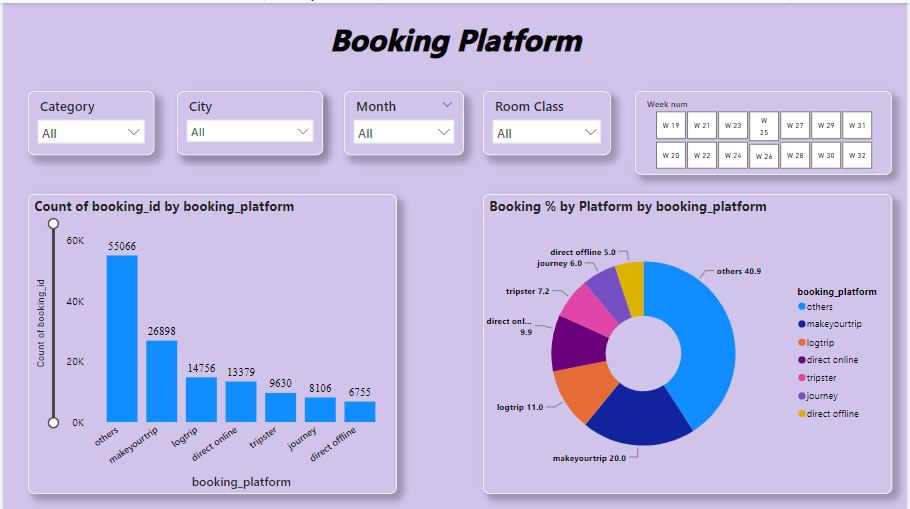

This screenshot's page, from the dashboard's own definition file:
{"tool":"powerbi","page":{"name":"Platform","canvas":[1280,720],"ordinal":3},"visuals":[{"type":"slicer","fields":{"Values":["dim_date.Week num"]},"box":[895.7,124.7,364.3,119.1],"z":4000},{"type":"clusteredColumnChart","fields":{"Category":["fact_bookings.booking_platform"],"Y":["CountNonNull(fact_bookings.booking_id)"]},"box":[35.4,270.7,523,425.2],"z":5000},{"type":"slicer","fields":{"Values":["dim_hotels.category"]},"box":[35.4,124.7,178.6,90.7],"z":6000},{"type":"donutChart","fields":{"Y":["fact_bookings.Booking % by Platform"],"Category":["fact_bookings.booking_platform"]},"box":[680.3,270.7,579.7,425.2],"z":7000},{"type":"textbox","box":[432.3,17,418.1,73.7],"z":8000},{"type":"slicer","fields":{"Values":["dim_rooms.room_class"]},"box":[680.3,124.7,181.4,90.7],"z":9000},{"type":"slicer","fields":{"Values":["dim_hotels.city"]},"box":[246.6,124.7,206.9,90.7],"z":10000},{"type":"slicer","fields":{"Values":["dim_date.mmm yy"]},"box":[483.3,124.7,170.1,90.7],"z":11000}]}

Visuals, with their boxes in screenshot pixels (x1, y1, x2, y2), scaled from the page's 1280x720 canvas onto the 910x509 screenshot:
slicer - dim_date.Week num: crop(637, 88, 896, 172)
clusteredColumnChart - fact_bookings.booking_platform x CountNonNull(fact_bookings.booking_id): crop(25, 191, 397, 492)
slicer - dim_hotels.category: crop(25, 88, 152, 152)
donutChart - fact_bookings.Booking % by Platform x fact_bookings.booking_platform: crop(484, 191, 896, 492)
textbox: crop(307, 12, 605, 64)
slicer - dim_rooms.room_class: crop(484, 88, 613, 152)
slicer - dim_hotels.city: crop(175, 88, 322, 152)
slicer - dim_date.mmm yy: crop(344, 88, 465, 152)
